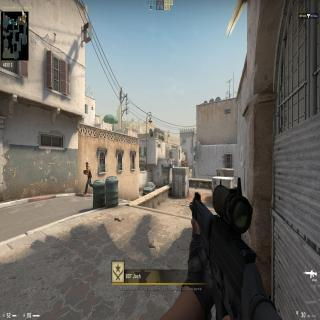T-Head: (85, 162, 89, 168)
